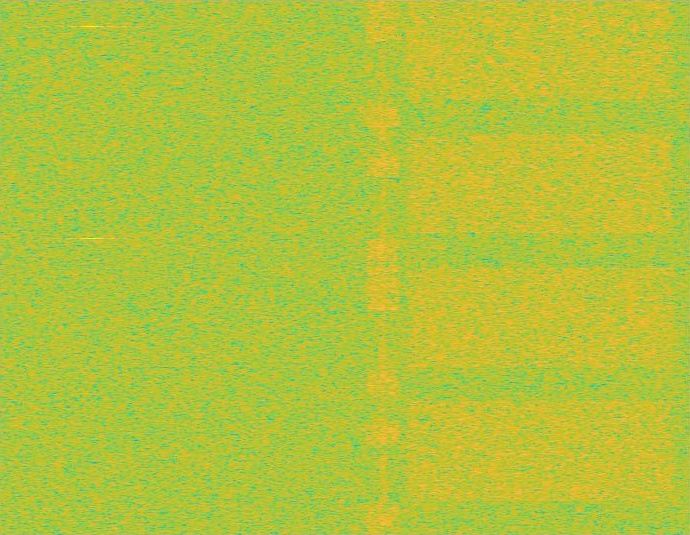5G: (402, 0, 678, 534)
DSSS: (379, 0, 387, 534)
LTE: (366, 0, 400, 534)
Radar: (85, 0, 99, 534)
